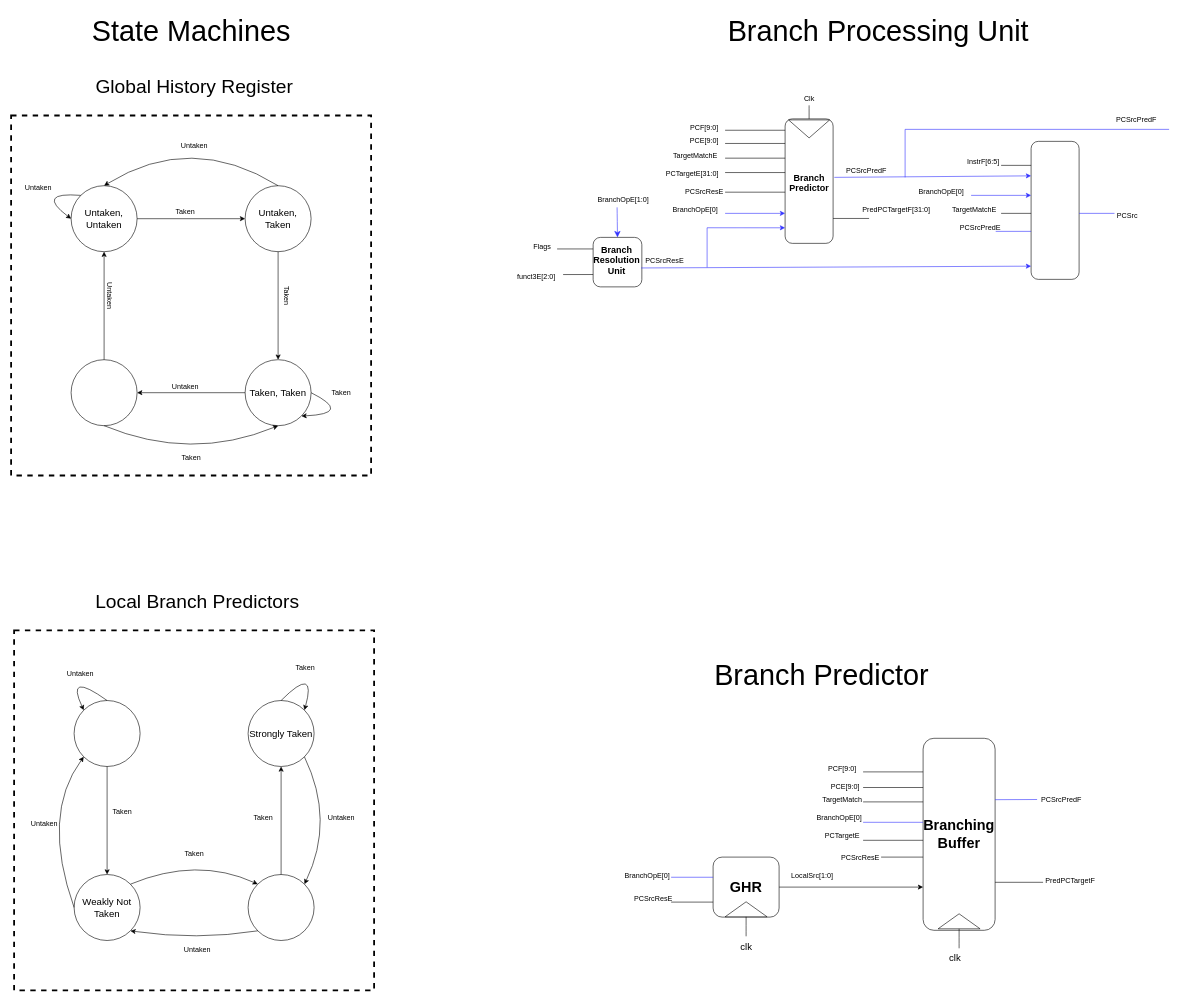
The diagram is 1180 pixels wide and 1001 high, and some of its shapes have lost their labels. The box of each missing label's shape, as (x1, y1, x2, y2) in pixels:
Branch Control Unit: (1030, 141, 1079, 279)
Strongly Not Taken: (74, 700, 140, 766)
Taken, Untaken: (70, 359, 137, 426)
Weakly Taken: (248, 874, 314, 940)
